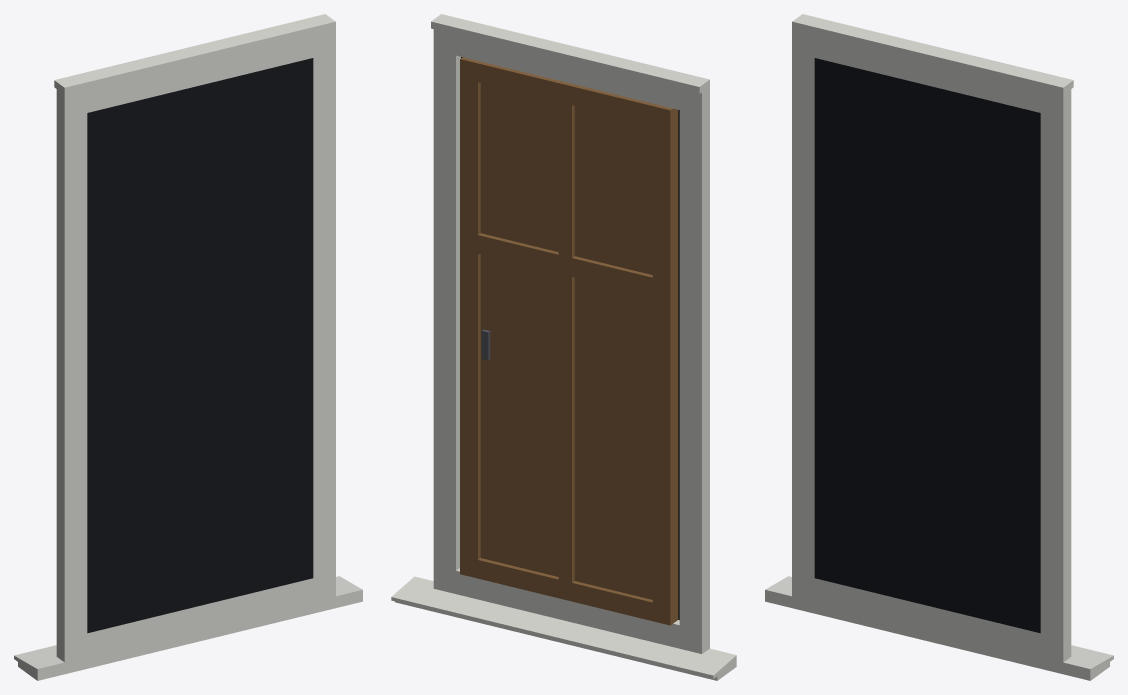
Rendered from plain_door.obj.
3 views of the same model, side by side, from view 1: azimuth 30°, elevation 25°; view 2: azimuth 150°, elevation 25°; view 3: azimuth 330°, elevation 25° (orthographic).
Parts seen in each view (by area): view 1: plain_door; view 2: plain_door; view 3: plain_door.
Part boxes in pixels (x1,y1,x2,y2): plain_door: [14, 14, 362, 680]; plain_door: [391, 14, 736, 680]; plain_door: [765, 14, 1113, 680].
Size of the model in its own units: 1.44 by 2.48 by 0.18.
